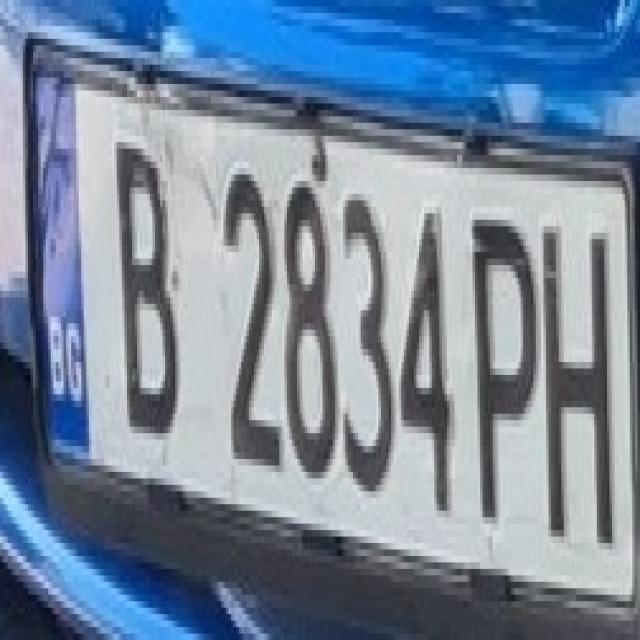2: (213, 155, 277, 459)
3: (333, 181, 391, 485)
4: (384, 194, 459, 511)
8: (272, 162, 343, 478)
B: (98, 110, 185, 440)
H: (528, 194, 625, 537)
P: (457, 201, 539, 524)
